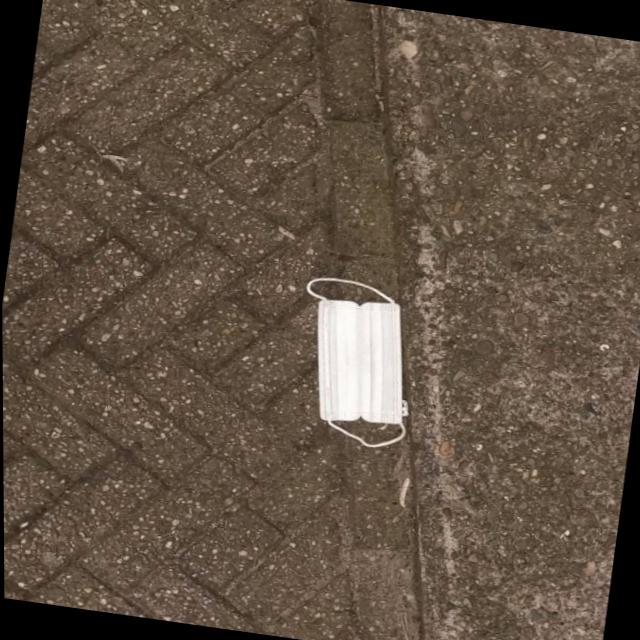Mask: (282, 268, 425, 454)
